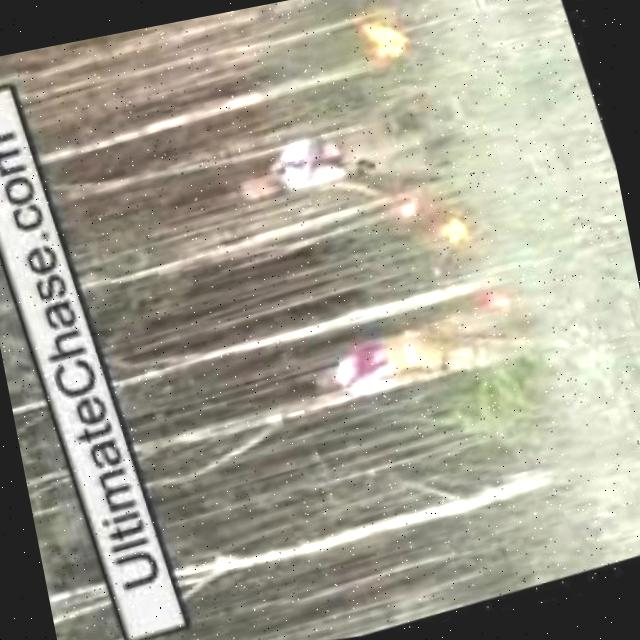fire: (391, 175, 489, 264), (352, 0, 420, 74), (481, 291, 518, 317)
